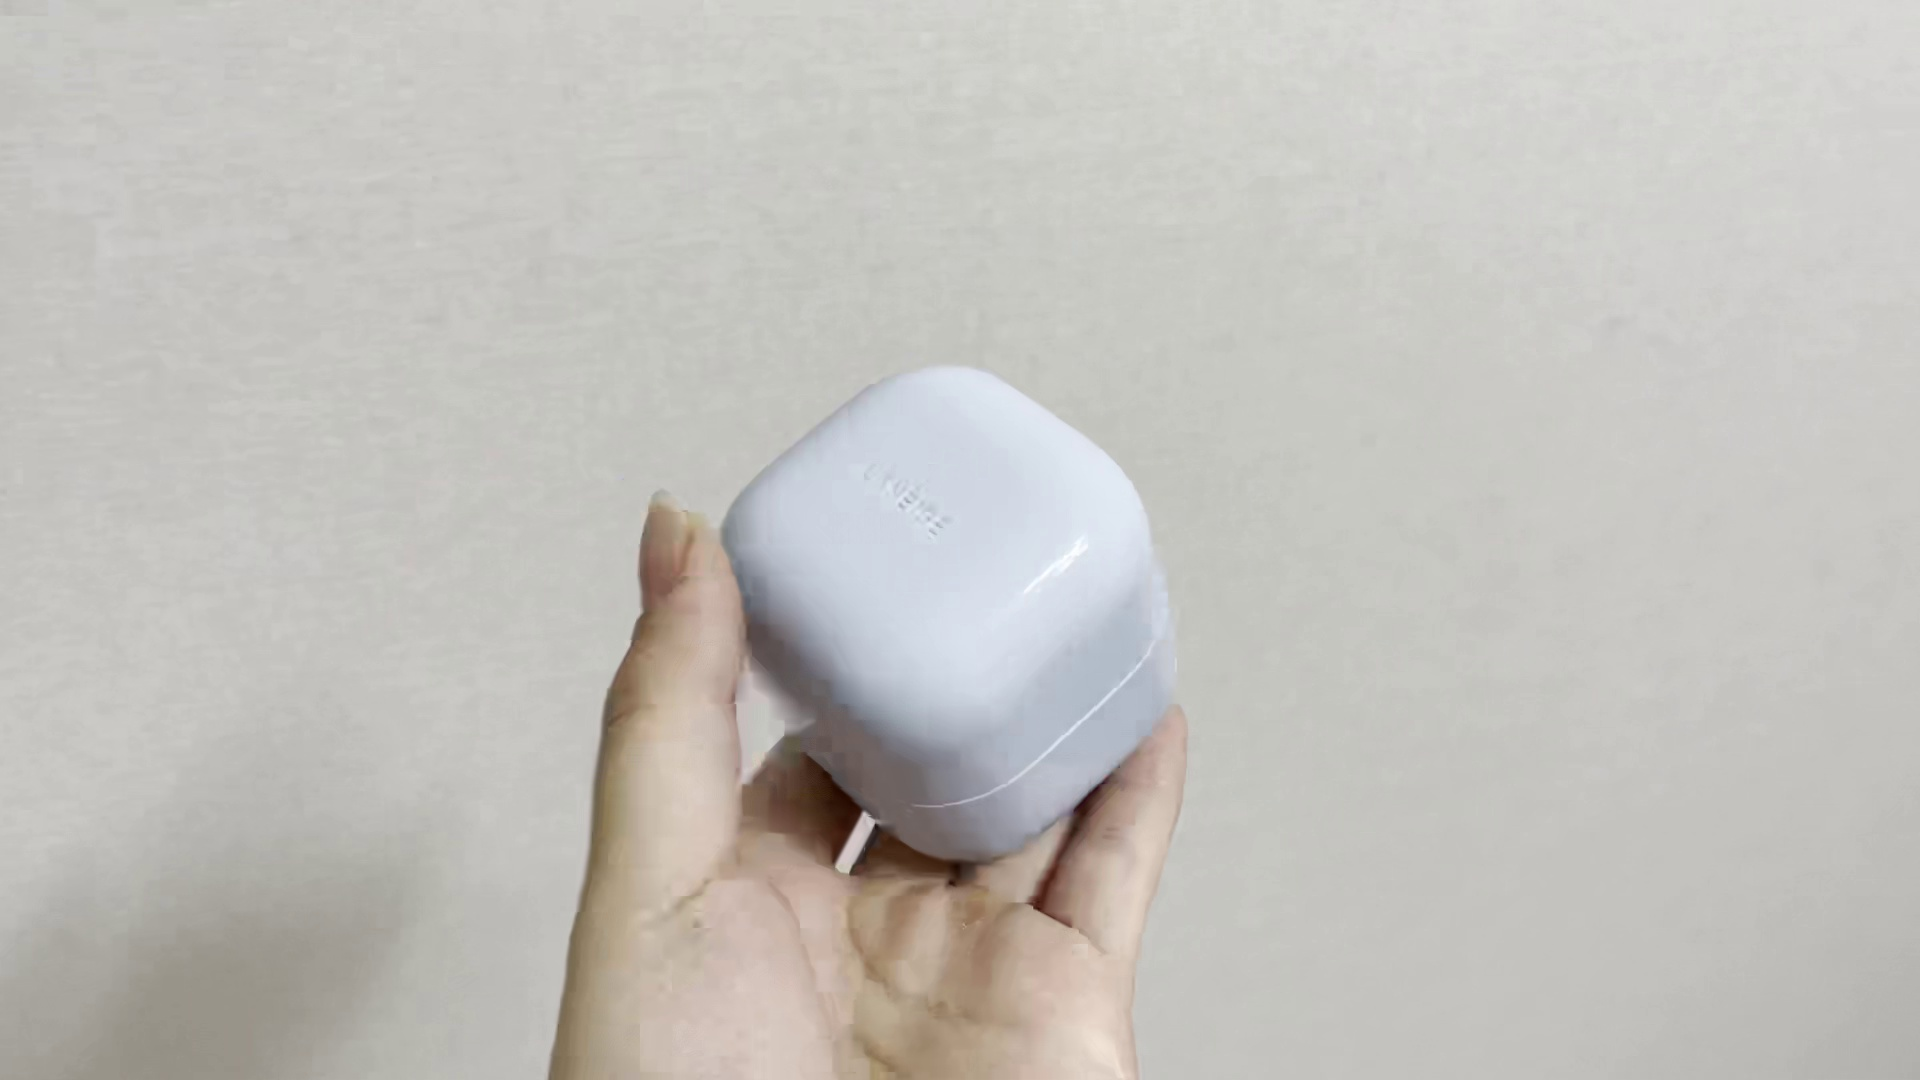cream: (716, 368, 1188, 864)
